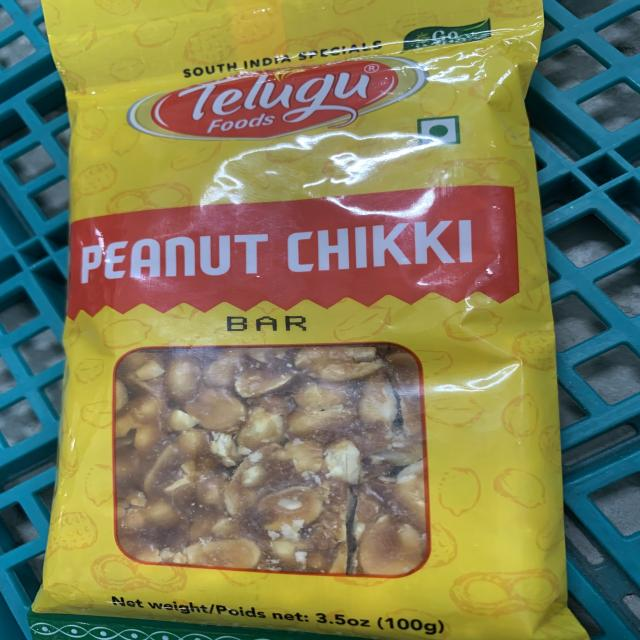object_name: (51, 5, 565, 640)
